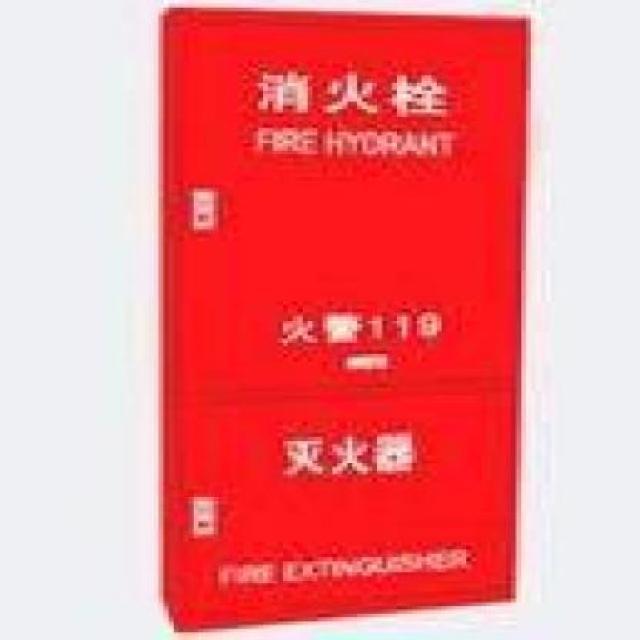firehydrant: (152, 2, 540, 639)
